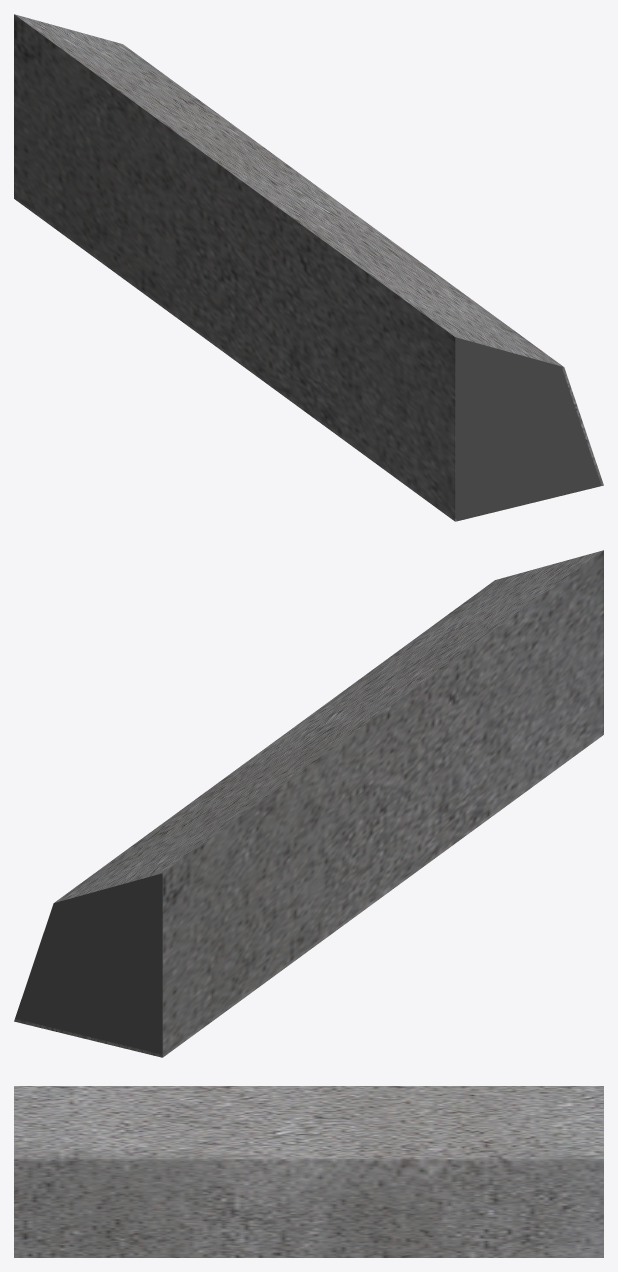
Rendered from border2.glb.
3 views of the same model, one above another, from view 1: azimuth 30°, elevation 25°; view 2: azimuth 150°, elevation 25°; view 3: azimuth 270°, elevation 25° (orthographic). The views are drawn at different scales.
Visible parts, largest first — view 1: Cube; view 2: Cube; view 3: Cube.
Part boxes in pixels (box(x1,y1,x2,y2)): Cube: box(14, 14, 603, 521); Cube: box(14, 550, 603, 1057); Cube: box(14, 1086, 603, 1257).
Bounding box in the file's own units: 0.6639 × 0.7877 × 3.41.
1 material, 1 textured.
